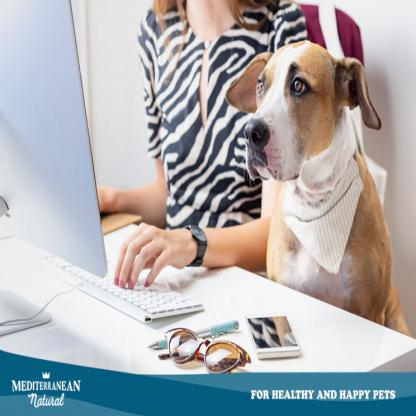dog: (229, 35, 414, 342)
